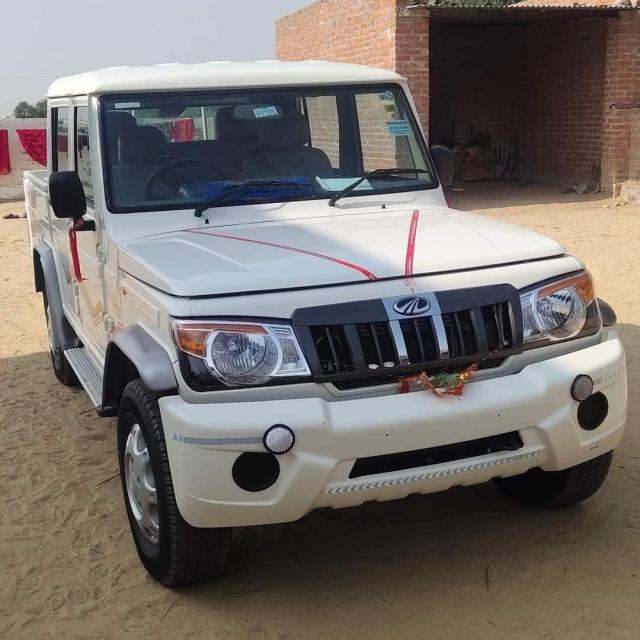light_vehicle: (19, 72, 628, 577)
